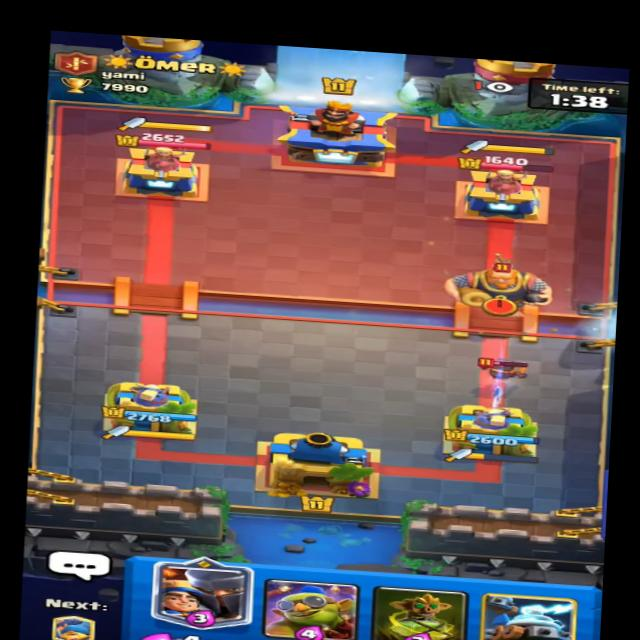mini-pekka: (472, 350, 541, 389)
royal-giant: (442, 258, 560, 322)
